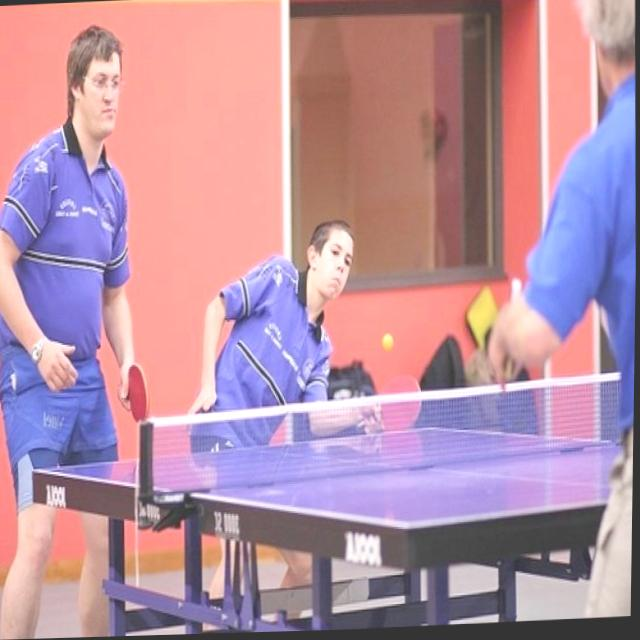TT Net: (130, 367, 634, 511)
TT Racket: (371, 367, 436, 437), (124, 355, 152, 427)
TT Table: (38, 425, 633, 529)
